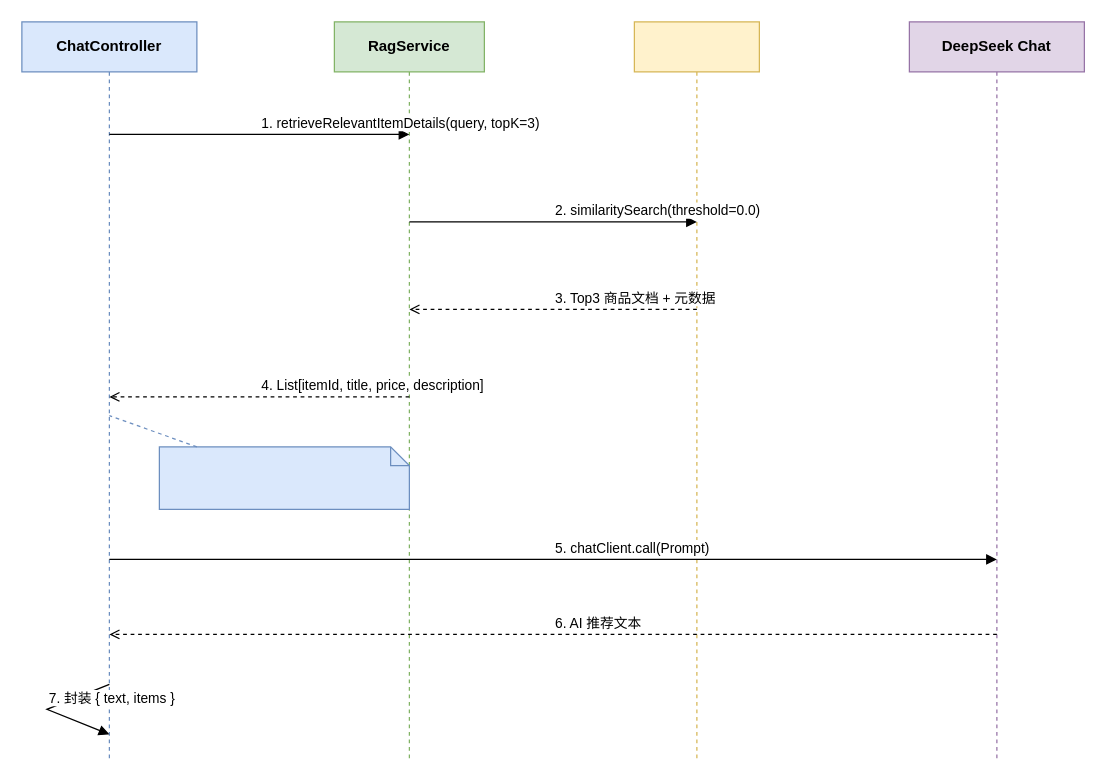
The diagram is 1106 pixels wide and 783 high, and some of its shapes have lost their labels. Here are the shapes that lost their labels. From the top down, the centre of each, then its label:
At point 696,46: "PgVector".
At point 283,477: "System Prompt 拼接 注入 Top3 商品 + 截取最近 6 条历史".
